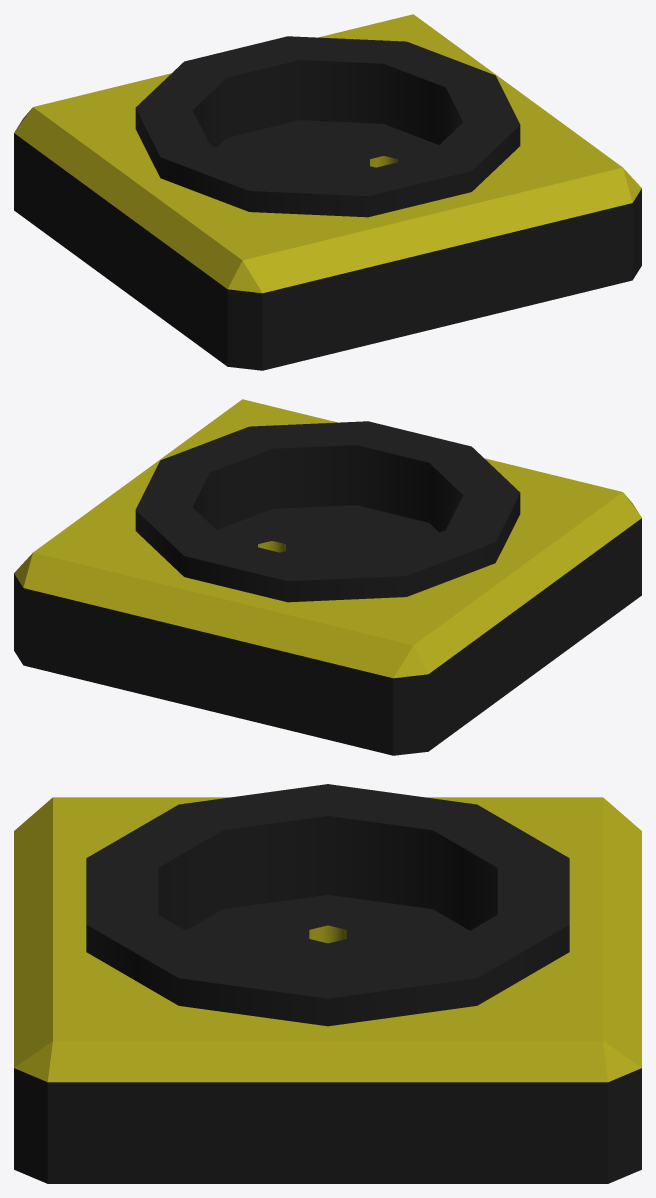
Rendered from wall_socket.fbx.
3 renders of one model, top to bottom at view 1: azimuth 30°, elevation 25°; view 2: azimuth 150°, elevation 25°; view 3: azimuth 270°, elevation 25°, orthographic. The views are drawn at different scales.
Parts seen in each view (by area): view 1: wall_socket; view 2: wall_socket; view 3: wall_socket.
Boxes of the visible parts, x1,y1,x2,y2 form: wall_socket: (14,14,641,370); wall_socket: (14,399,641,755); wall_socket: (14,784,641,1183).
Bounding box in the file's own units: 0.0703 × 0.0703 × 0.0198.
